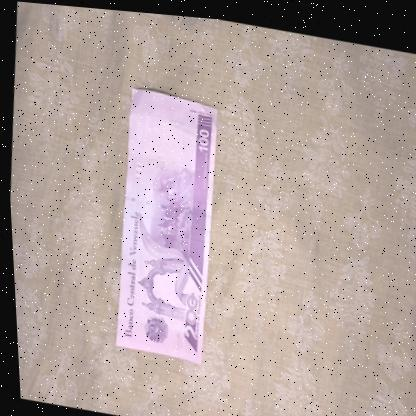one_hundred-back-vef: (99, 82, 228, 363)
